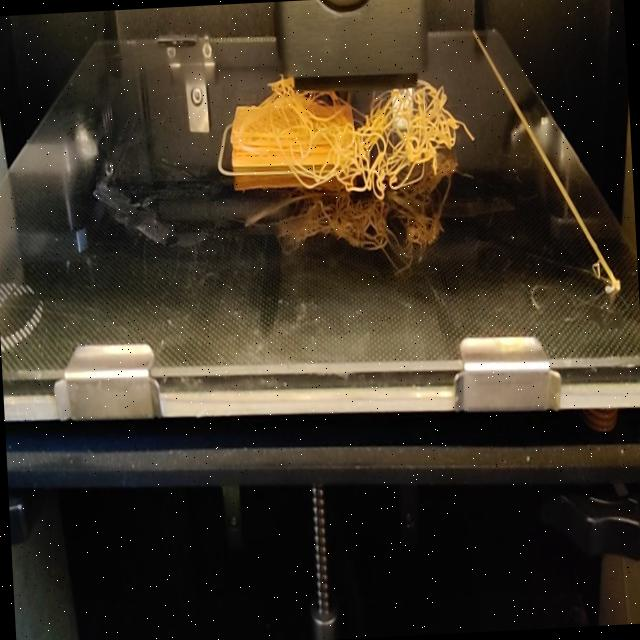spaghetti: (350, 76, 476, 198), (285, 85, 356, 199), (264, 74, 293, 92)
